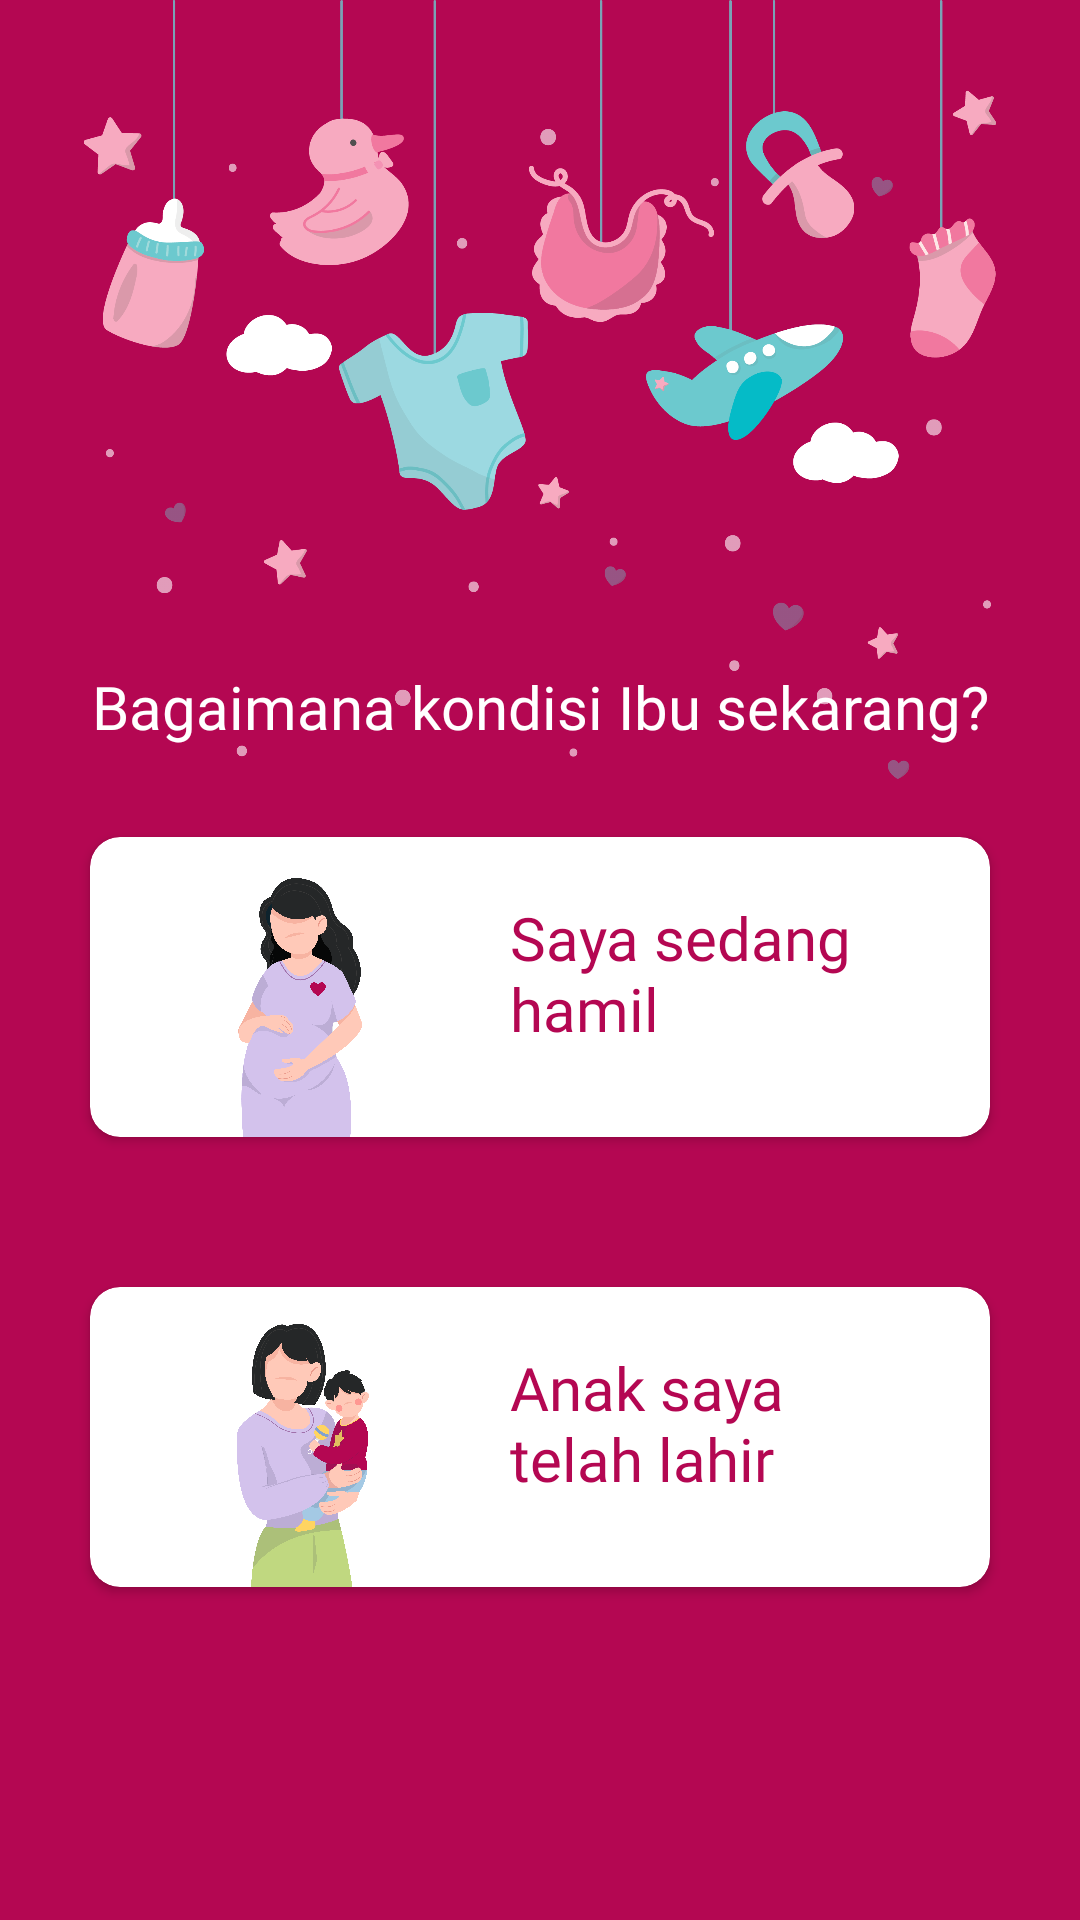

Icons on this 1080px×1920px Android screen, each with the point to tap as (x,y):
desainibu: (300,1007), (303,1455)
